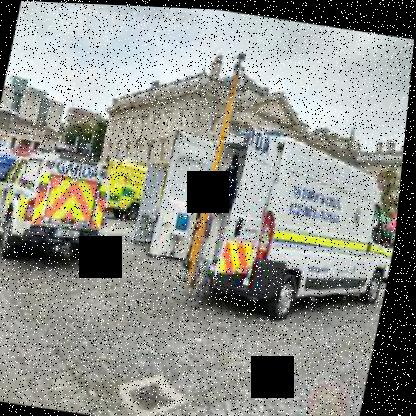emergency: (130, 110, 407, 331), (0, 139, 120, 274)
